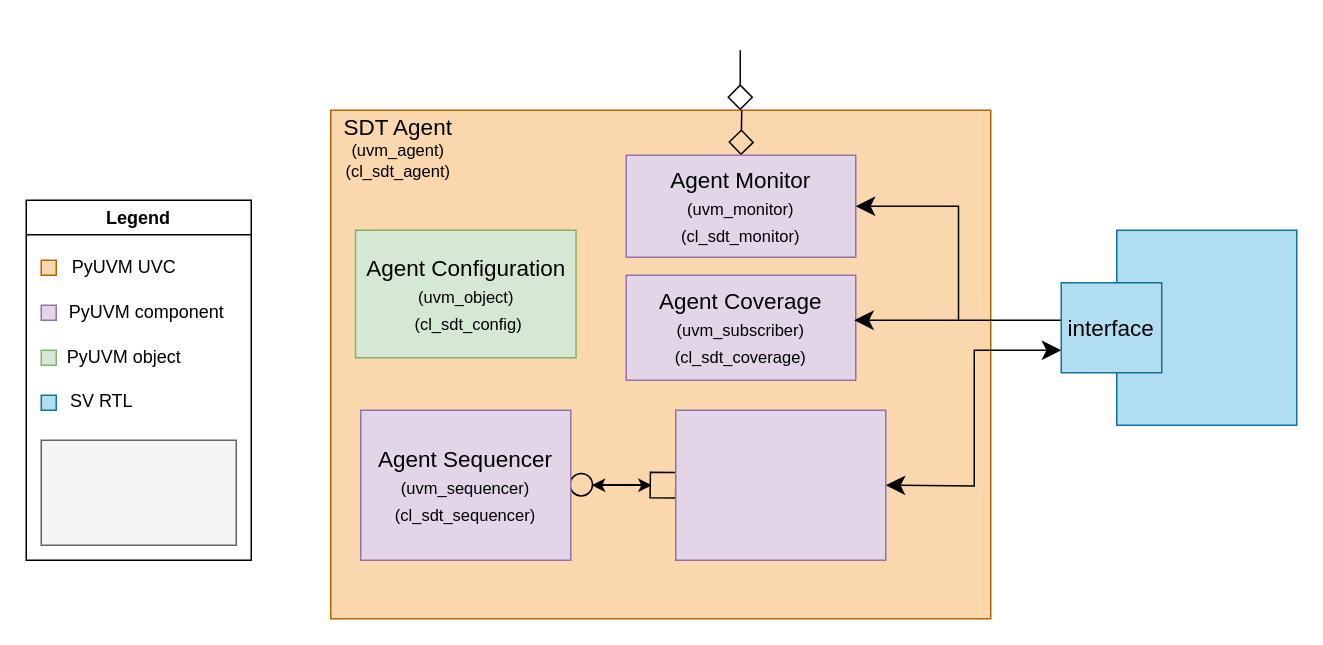
This 1323x645 diagram has some shape labels left out. Each missing label, with the box of its shape:
<Abstract Name> (<Derived from Class>) (<Class Name>): (40, 439, 236, 545)
Agent Driver (uvm_driver) (cl_sdt_driver): (674, 409, 886, 560)
DUT: (1115, 229, 1297, 425)
